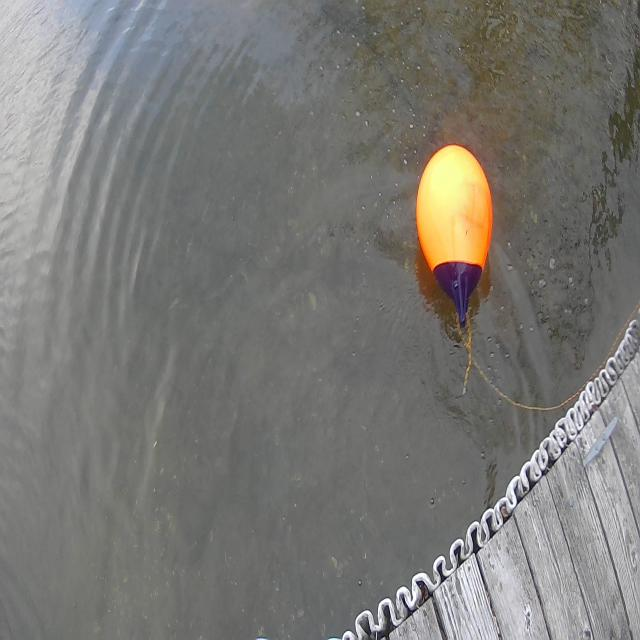Buoy: (407, 126, 505, 333)
